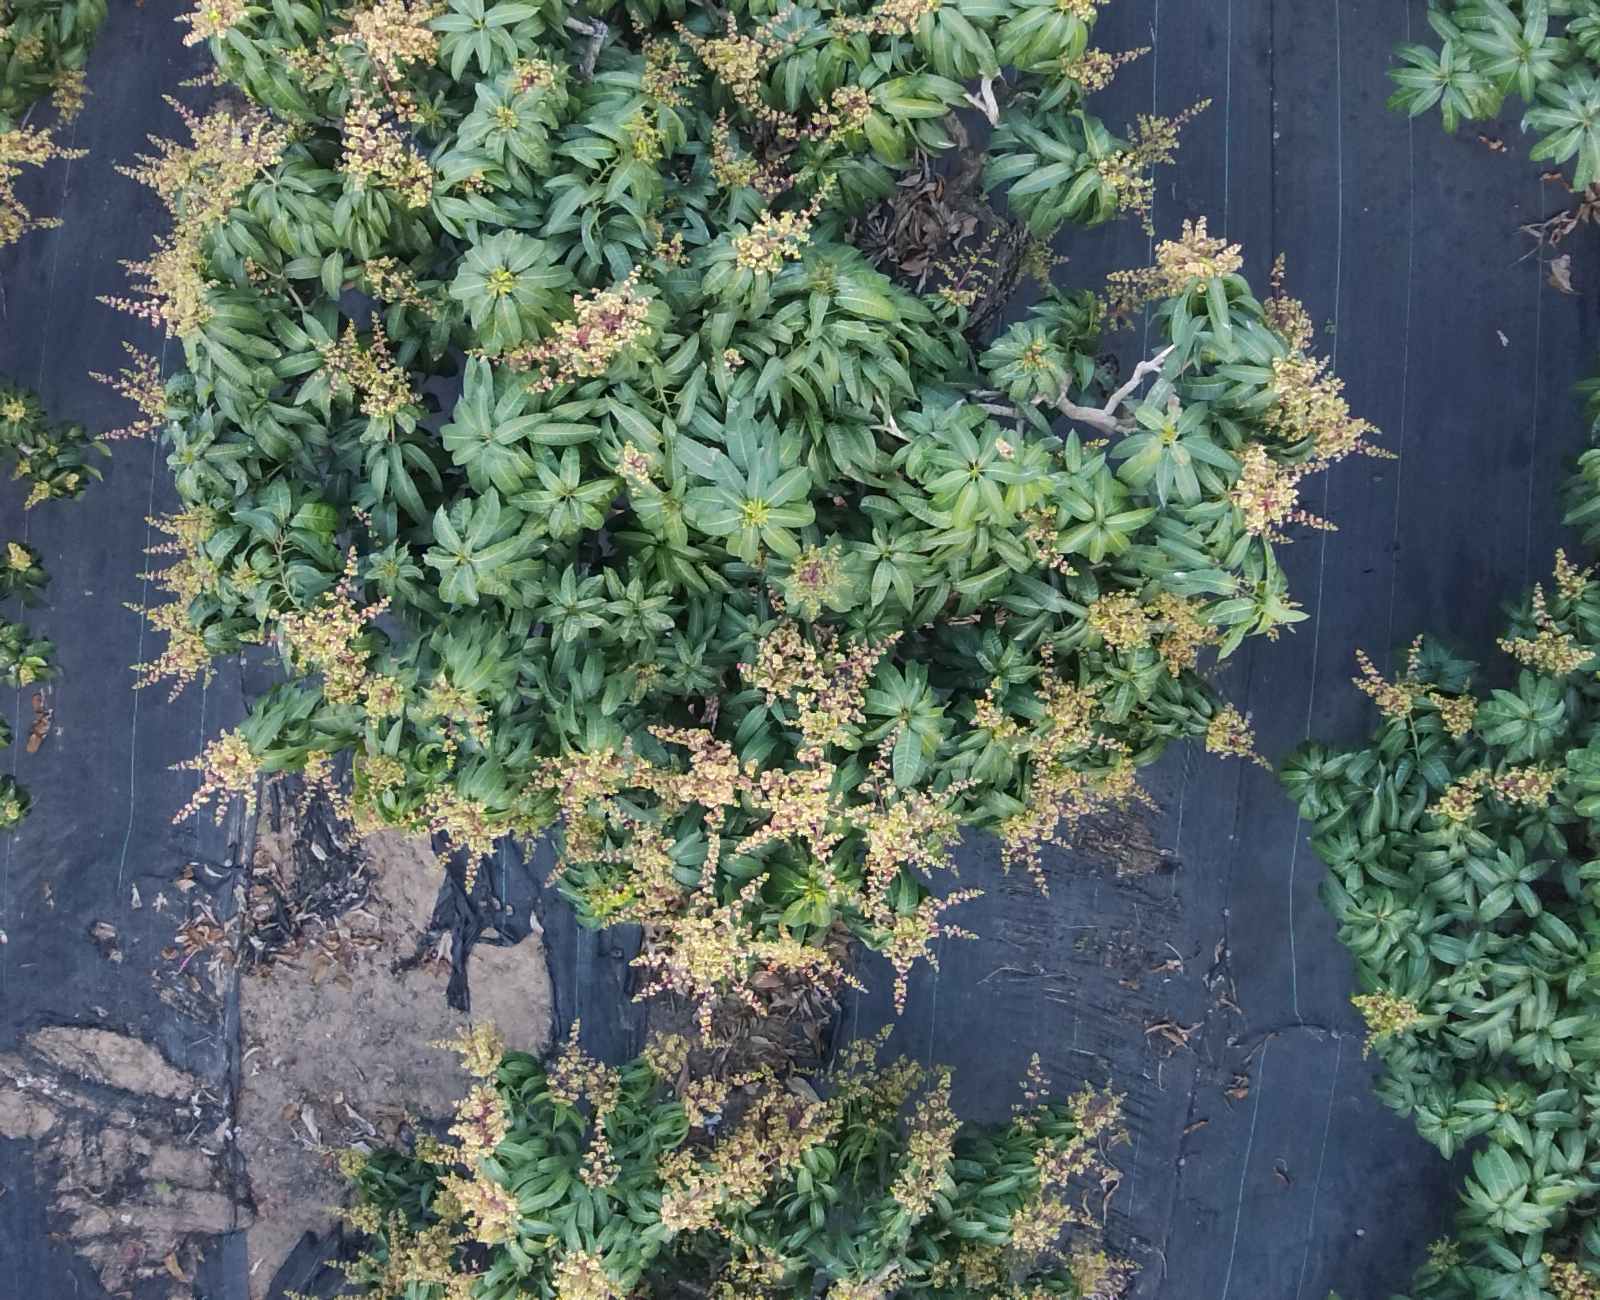flowers: (525, 616, 967, 1013), (102, 96, 297, 337), (643, 15, 873, 199), (972, 661, 1153, 890), (659, 1074, 842, 1232), (532, 837, 647, 1063), (336, 752, 505, 883), (496, 268, 651, 393), (281, 551, 389, 703), (1099, 99, 1210, 233), (1264, 352, 1390, 470), (1106, 218, 1243, 322), (427, 1024, 509, 1169), (340, 1219, 478, 1300), (1088, 592, 1217, 675), (338, 94, 433, 208), (1229, 444, 1335, 543), (892, 1071, 959, 1214), (325, 318, 422, 417), (1498, 584, 1593, 675), (332, 1, 443, 80), (1033, 1084, 1118, 1186), (1428, 761, 1563, 824), (175, 730, 263, 821), (131, 600, 211, 698), (734, 190, 825, 275), (90, 344, 167, 439), (547, 1020, 621, 1114), (446, 1171, 521, 1244), (426, 673, 490, 752), (635, 21, 694, 107), (1351, 991, 1422, 1059), (364, 256, 440, 318), (934, 232, 998, 306), (1011, 1197, 1092, 1254), (1205, 703, 1272, 768), (785, 547, 844, 619), (1353, 650, 1416, 718), (708, 1247, 785, 1300), (553, 1250, 630, 1300), (1063, 1248, 1134, 1300), (832, 1, 941, 34), (143, 554, 218, 600), (1022, 508, 1071, 574), (149, 504, 218, 551), (1033, 1139, 1102, 1186), (1, 127, 86, 164), (180, 1, 249, 45), (1542, 1254, 1600, 1300), (1, 164, 34, 245), (1264, 297, 1313, 352), (580, 1128, 620, 1189), (277, 46, 336, 88), (643, 1032, 690, 1082), (1429, 690, 1477, 738), (624, 107, 663, 163), (1063, 49, 1114, 90), (957, 1244, 1002, 1287), (1554, 548, 1592, 597), (617, 443, 655, 489), (52, 68, 85, 121), (328, 1254, 381, 1284), (336, 1201, 381, 1235), (513, 58, 556, 92), (46, 466, 89, 497), (314, 1281, 385, 1300), (827, 1277, 884, 1300), (1026, 241, 1051, 287), (1428, 1235, 1458, 1272), (178, 62, 227, 85), (990, 1283, 1053, 1300), (632, 663, 659, 702), (338, 1147, 371, 1179), (1057, 1, 1105, 23), (244, 259, 275, 292), (305, 749, 332, 787), (486, 267, 517, 297), (232, 562, 260, 596), (1, 797, 27, 830), (15, 34, 42, 62), (7, 543, 32, 570), (25, 482, 50, 509), (352, 505, 375, 535), (1, 395, 27, 421), (494, 105, 517, 130), (11, 452, 32, 479), (722, 348, 744, 371), (930, 1262, 951, 1287), (1271, 252, 1286, 288), (994, 608, 1010, 627), (515, 1289, 539, 1300), (1084, 439, 1106, 450), (285, 1289, 305, 1300)
